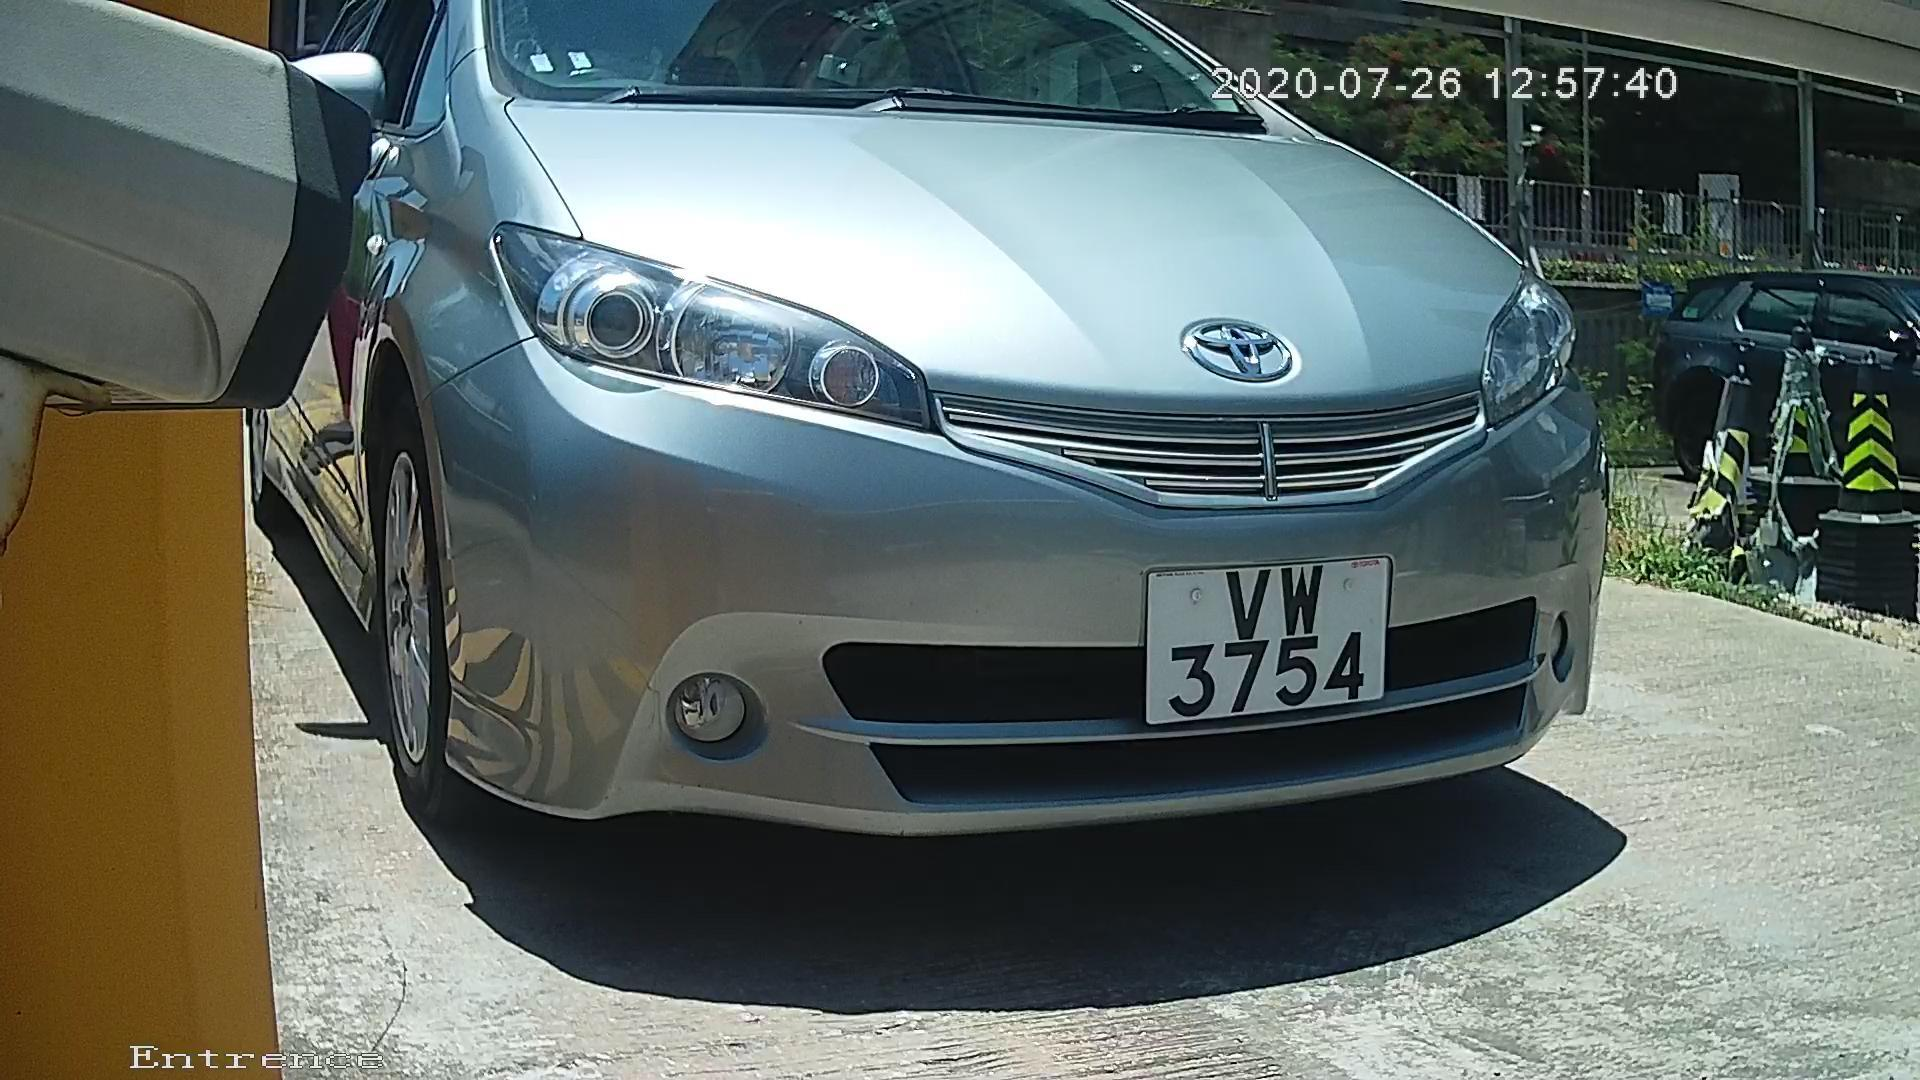privatecar: (291, 49, 1646, 936)
